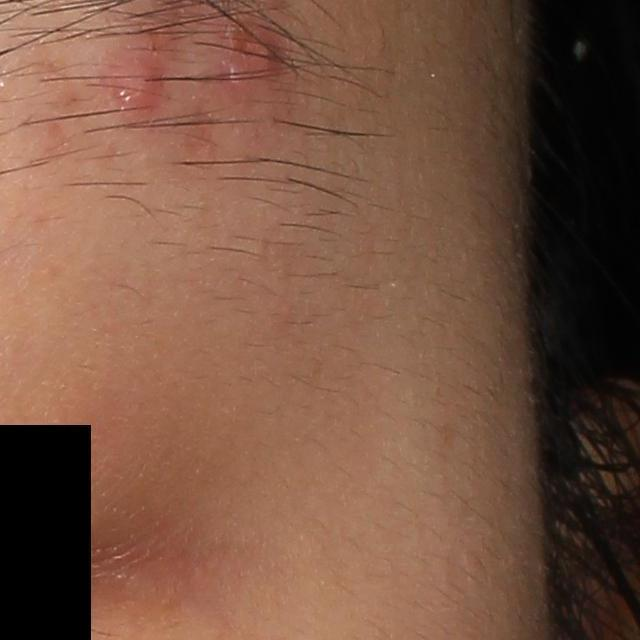papule: (110, 51, 164, 124), (238, 29, 284, 88)
